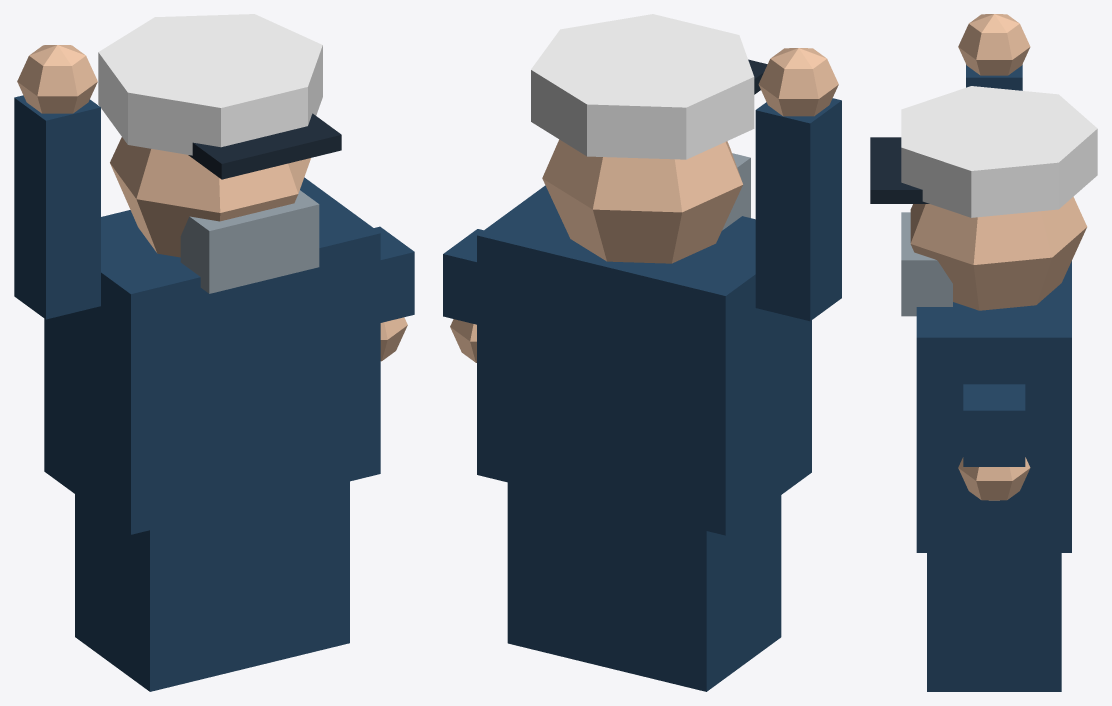
Rendered from captain.glb.
The picture shows the model from 3 angles, left to right: view 1: azimuth 30°, elevation 25°; view 2: azimuth 150°, elevation 25°; view 3: azimuth 270°, elevation 25°; orthographic projection. The views are drawn at different scales.
Visible parts, largest first — view 1: Body, arm; view 2: Body, arm; view 3: Body, arm.
Part boxes in pixels (left/top/right/bottom): Body: left=44, top=14, right=414, bottom=691; arm: left=14, top=45, right=100, bottom=319; Body: left=443, top=14, right=811, bottom=691; arm: left=755, top=48, right=841, bottom=321; Body: left=870, top=86, right=1097, bottom=691; arm: left=958, top=14, right=1030, bottom=90.
Size of the model in its own units: 0.7412 by 1.21 by 0.44.
